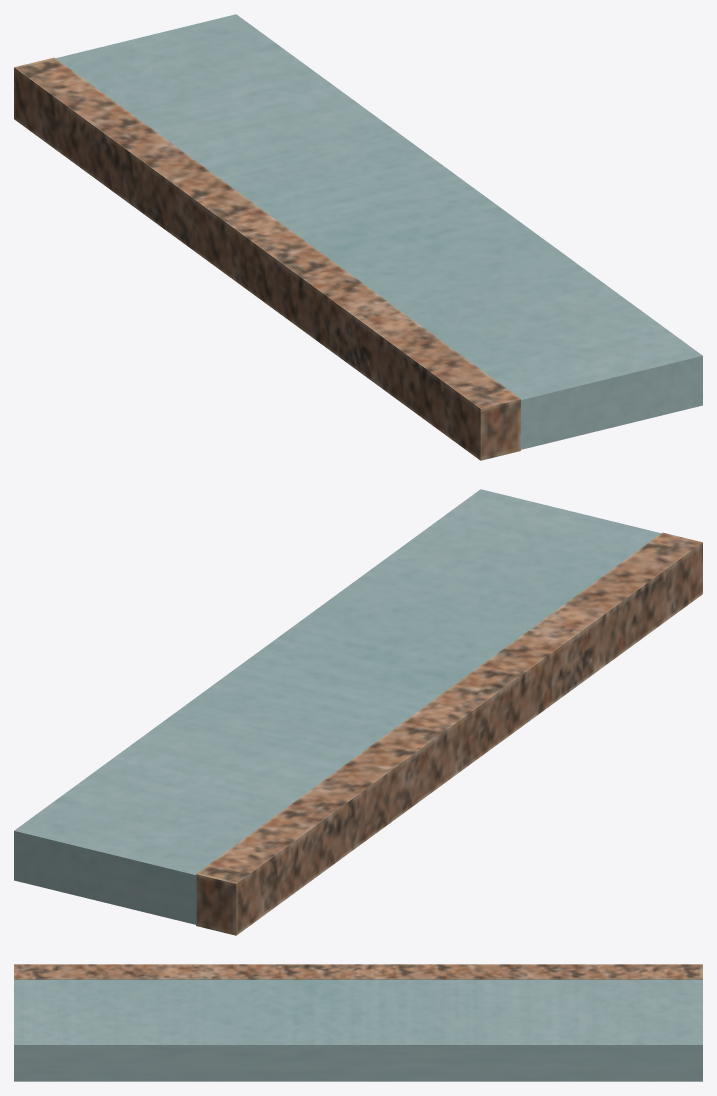
The model's file is set_base_b_02_half.fbx.
3 renders of one model, top to bottom at view 1: azimuth 30°, elevation 25°; view 2: azimuth 150°, elevation 25°; view 3: azimuth 270°, elevation 25°, orthographic. The views are drawn at different scales.
Parts seen in each view (by area): view 1: set_base_b_02_half; view 2: set_base_b_02_half; view 3: set_base_b_02_half.
Boxes of the visible parts, x1,y1,x2,y2 form: set_base_b_02_half: [14, 14, 702, 460]; set_base_b_02_half: [14, 489, 702, 935]; set_base_b_02_half: [14, 964, 702, 1081].
Bounding box in the file's own units: 55 × 12.25 × 200.
